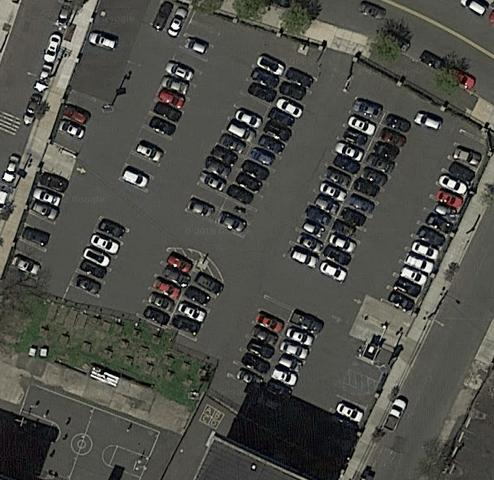parkingspot: (116, 5, 230, 197), (378, 127, 487, 317), (279, 95, 389, 271), (181, 51, 290, 226), (213, 64, 320, 241), (310, 110, 417, 287), (252, 307, 325, 416), (7, 169, 73, 281), (223, 291, 296, 392), (19, 0, 77, 127), (133, 247, 198, 331), (69, 215, 131, 299), (166, 267, 227, 344), (51, 89, 100, 157), (326, 380, 373, 429), (149, 0, 192, 39), (0, 150, 24, 219), (345, 355, 385, 384)
